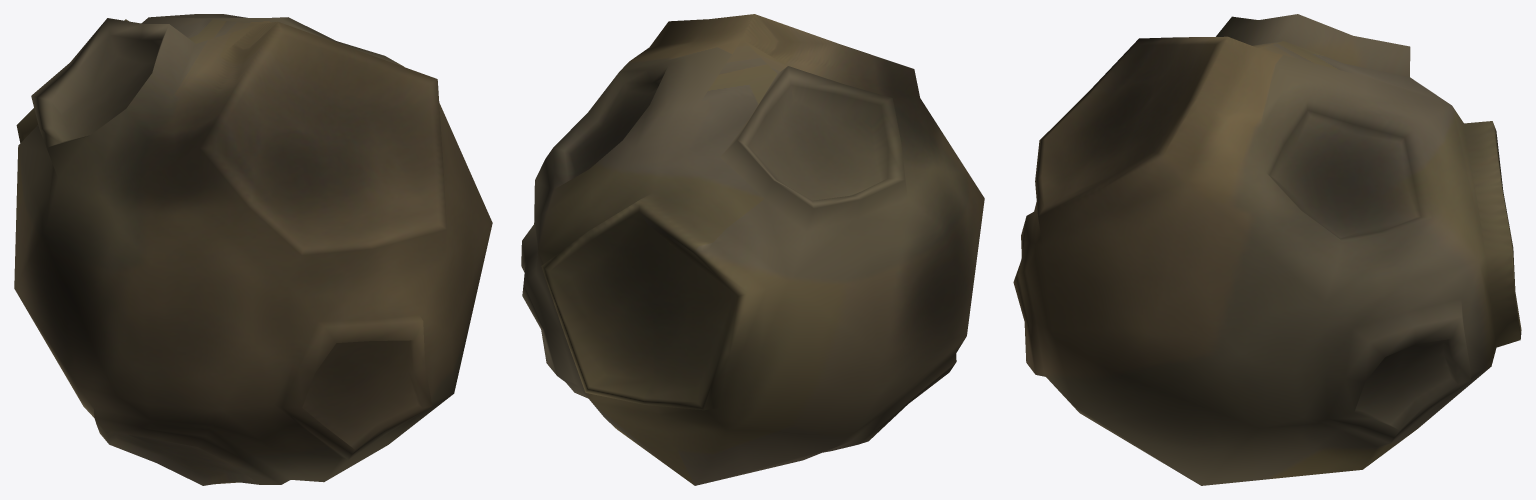
File: asteroid.fbx
The picture shows the model from 3 angles, left to right: view 1: azimuth 30°, elevation 25°; view 2: azimuth 150°, elevation 25°; view 3: azimuth 270°, elevation 25°; orthographic projection. The views are drawn at different scales.
Parts seen in each view (by area): view 1: pSolid1; view 2: pSolid1; view 3: pSolid1.
Part boxes in pixels (left/top/right/bottom): pSolid1: left=14, top=14, right=492, bottom=485; pSolid1: left=521, top=14, right=984, bottom=485; pSolid1: left=1013, top=14, right=1521, bottom=485.
Bounding box in the file's own units: 4.92 × 5.42 × 5.62.
